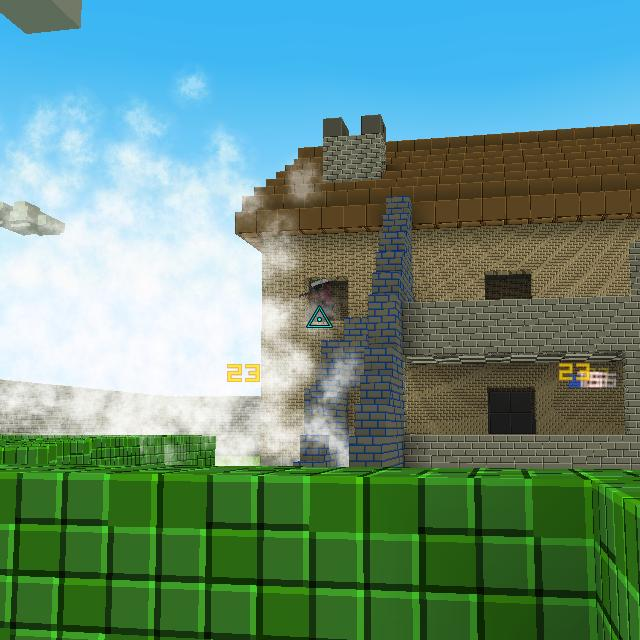enemy: (308, 276, 335, 320)
